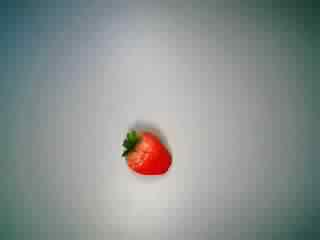strawberry: (115, 123, 177, 182)
